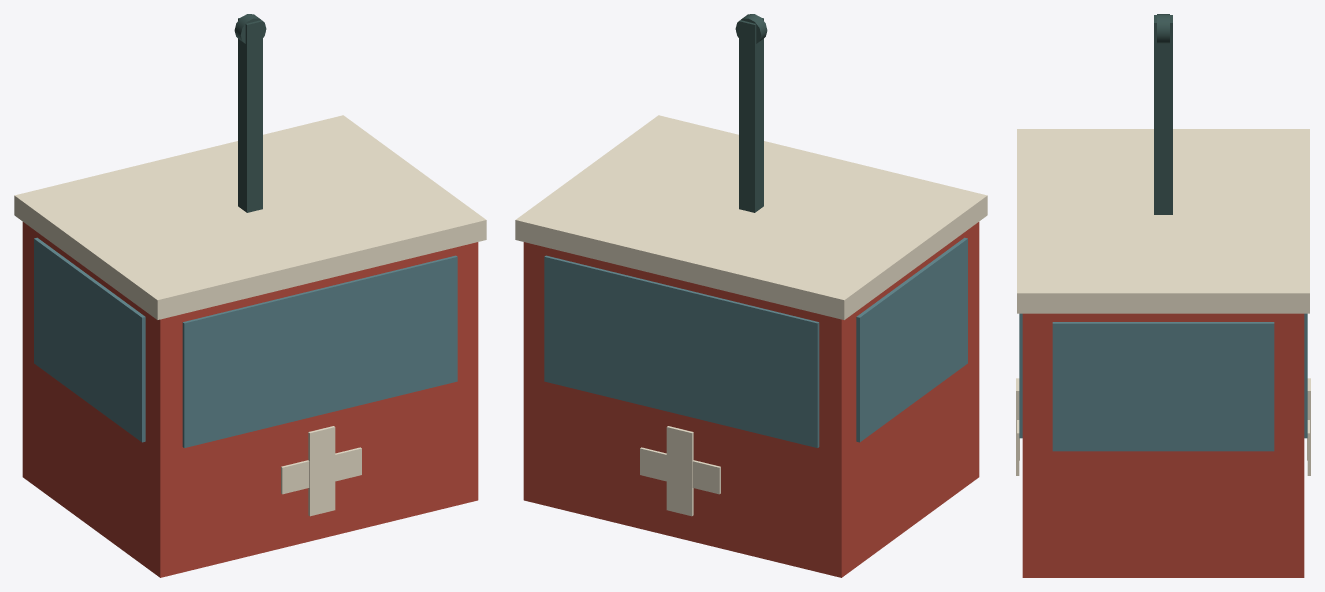
File: cabin.glb
3 views of the same model, side by side, from view 1: azimuth 30°, elevation 25°; view 2: azimuth 150°, elevation 25°; view 3: azimuth 270°, elevation 25° (orthographic). The views are drawn at different scales.
Parts seen in each view (by area): view 1: Felseneggbahn cabin · Explorer proportions; view 2: Felseneggbahn cabin · Explorer proportions; view 3: Felseneggbahn cabin · Explorer proportions.
Boxes of the visible parts, box(x1,y1,x2,y2) form: Felseneggbahn cabin · Explorer proportions: box(14, 14, 486, 577); Felseneggbahn cabin · Explorer proportions: box(515, 14, 987, 577); Felseneggbahn cabin · Explorer proportions: box(1016, 14, 1310, 577).
Bounding box in the file's own units: 4.6 × 6.31 × 3.49.
